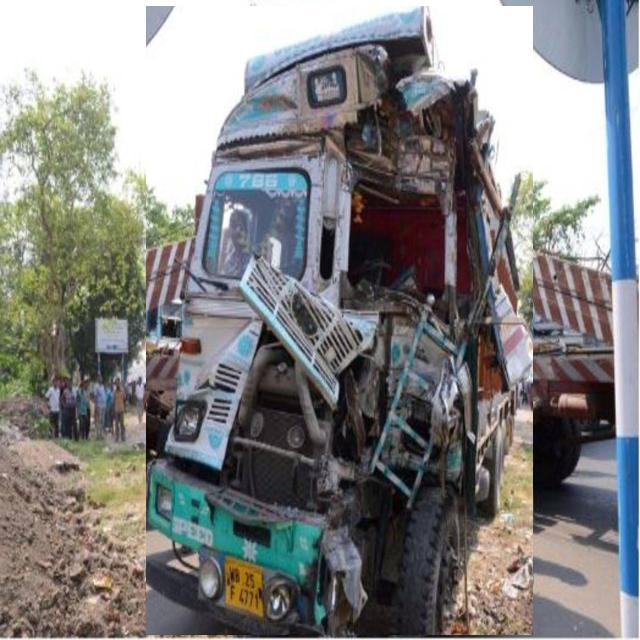accident: (146, 6, 532, 635)
